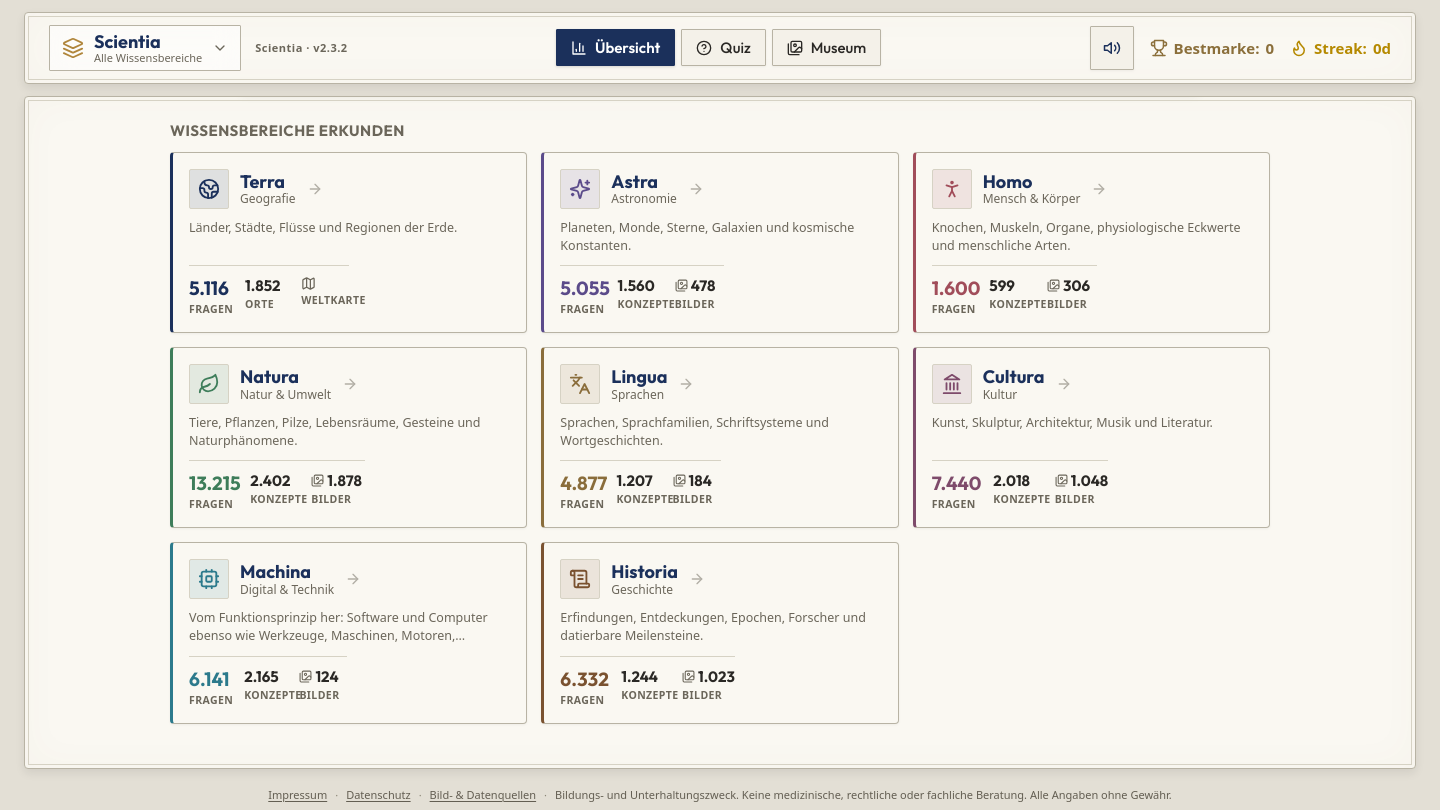
it: App — Laden der Bereichsdaten › gibt das Quiz nach einem Bereichswechsel erst mit den Daten des neuen Bereichs frei
(page scrolled)
# Erster Bereich: Natura vollstaendig laden.
Click the button with aria-label "Natura:": (209, 384) [170,347,527,528]
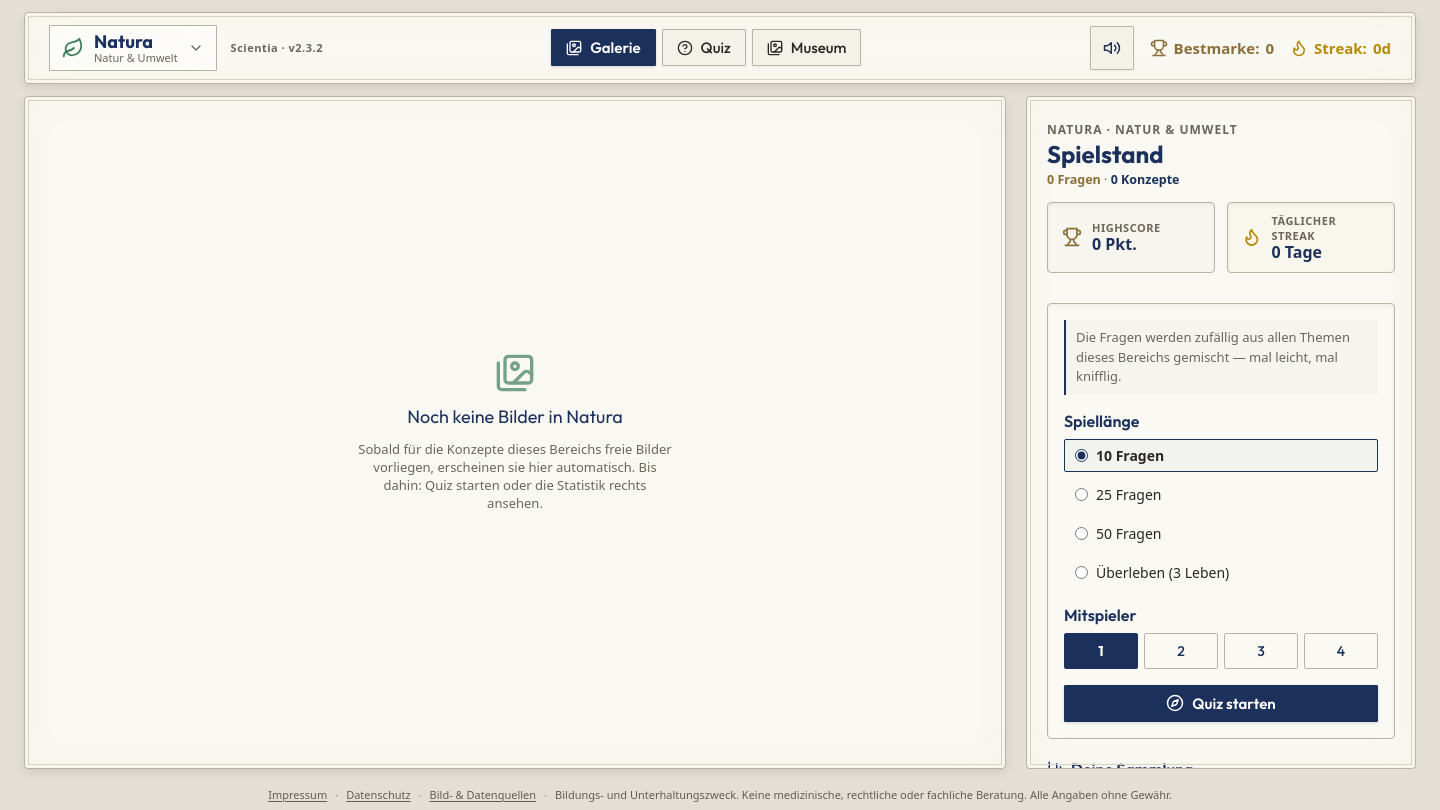
# Bereichswechsel: Lingua ist angefragt, aber noch nicht da.
Click the button with aria-label "Wissensbereich wechseln": (133, 48) [49,25,217,71]
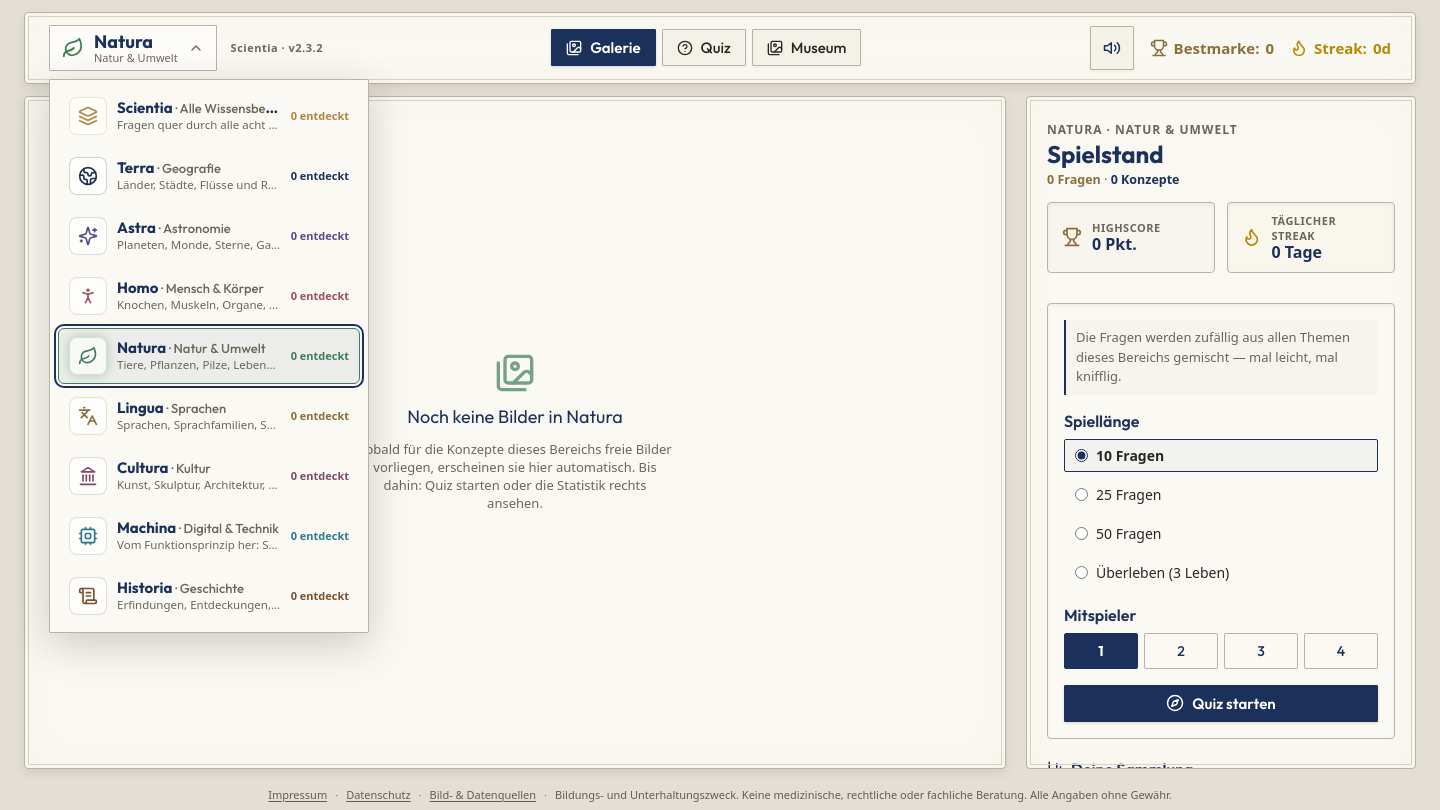
Click the menu item "Lingua": (209, 416) [58,388,360,444]
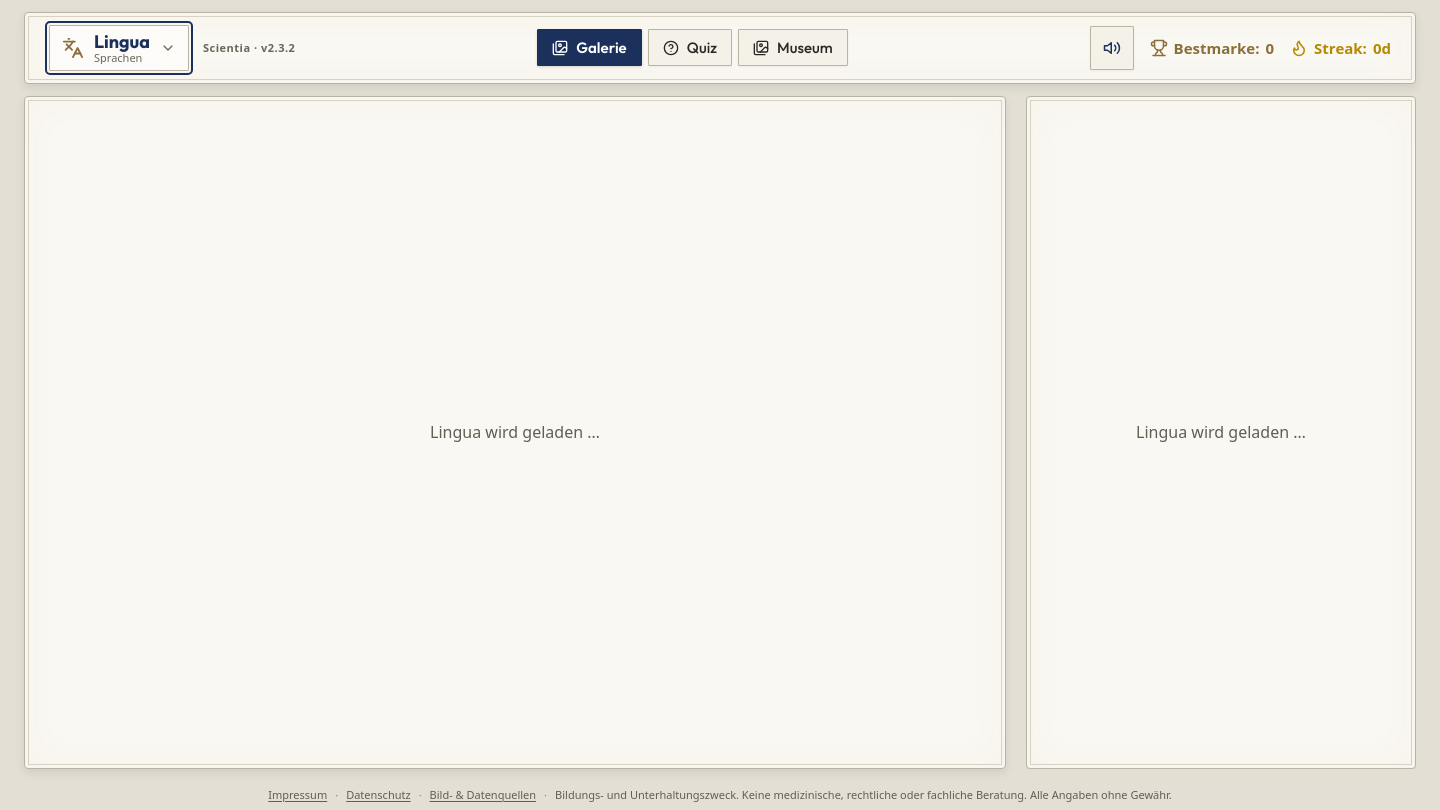
Click the button "Quiz": (690, 48) [648,29,732,66]
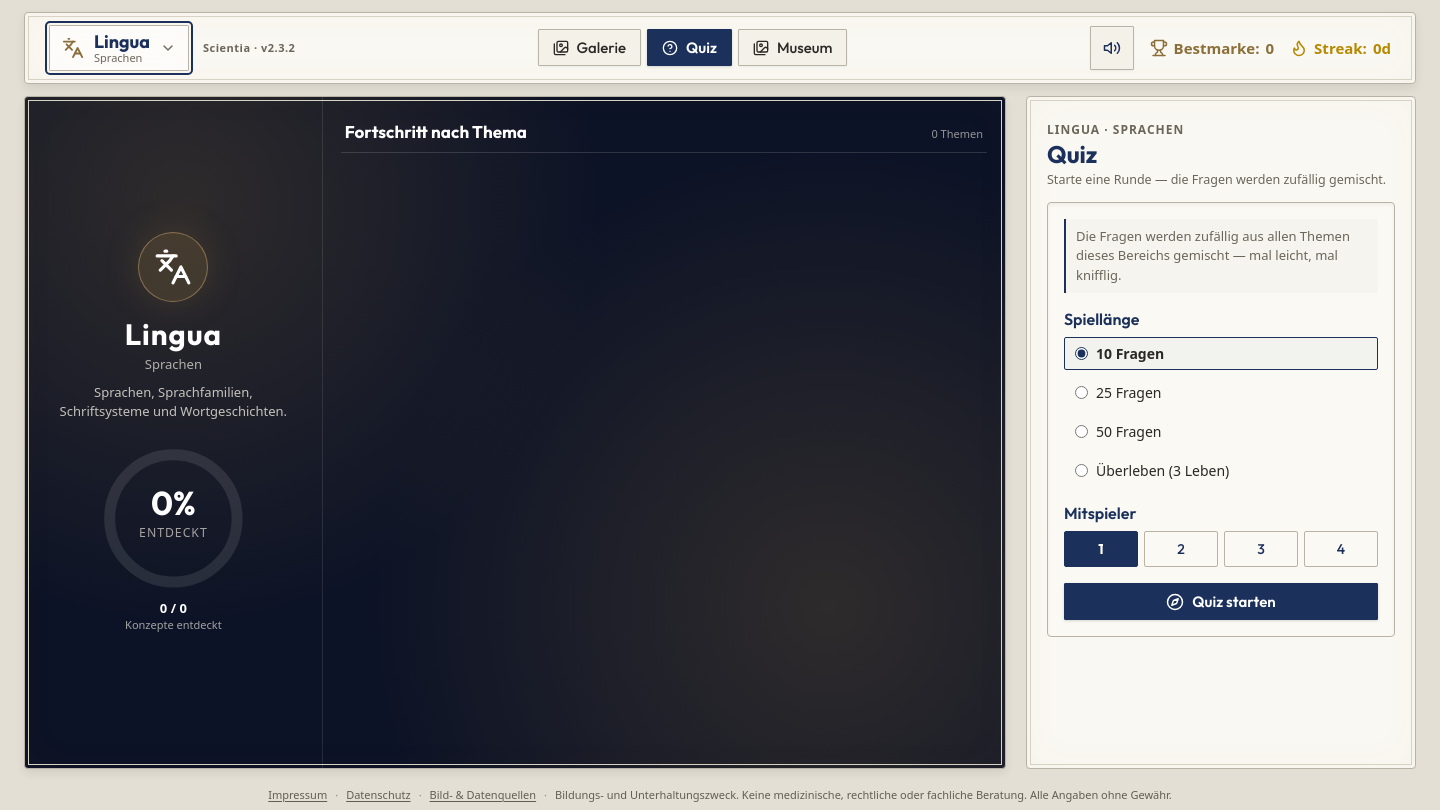
Now the button "Quiz starten" is shown, box [1064,583,1378,620]
